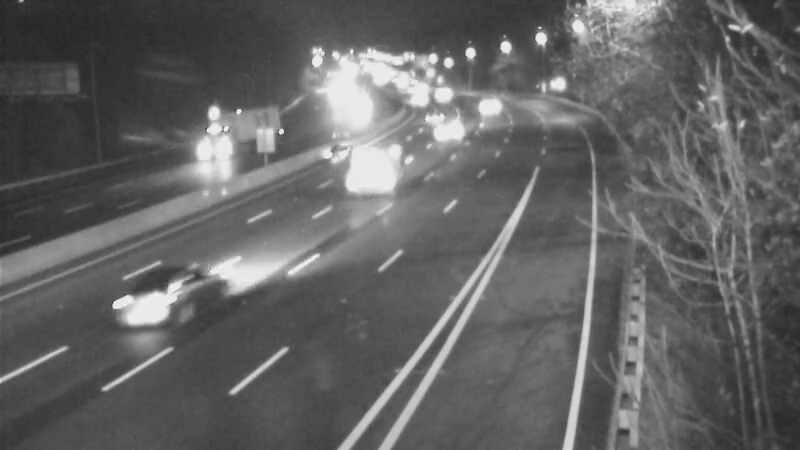vehicle: (103, 253, 213, 363), (334, 133, 414, 213), (177, 113, 257, 193), (423, 68, 473, 118), (389, 75, 439, 125), (461, 79, 511, 129), (406, 88, 456, 138), (434, 99, 484, 149), (305, 125, 355, 175)
